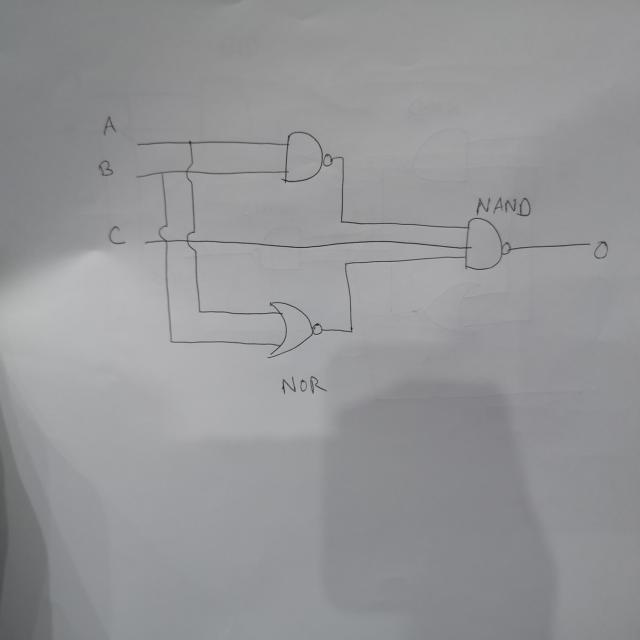crossover: (156, 222, 172, 245), (183, 227, 197, 253), (182, 160, 196, 180)
junction: (346, 325, 356, 337), (341, 257, 350, 269), (194, 306, 203, 316), (337, 215, 345, 226), (157, 168, 166, 177), (167, 336, 175, 346), (186, 137, 194, 147), (338, 154, 346, 162)
terminal: (140, 235, 151, 248), (134, 140, 142, 148), (586, 240, 593, 248), (133, 172, 140, 180)
text: (473, 194, 533, 219), (281, 372, 327, 398), (107, 223, 126, 246), (100, 112, 118, 136), (95, 157, 115, 178), (592, 239, 611, 261)
